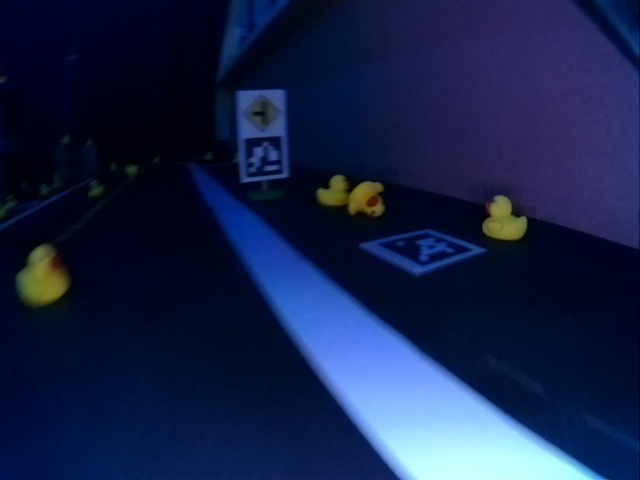Duckie: (21, 246, 70, 305), (483, 195, 526, 239), (348, 182, 385, 216), (321, 175, 348, 205), (89, 179, 102, 196), (38, 184, 48, 197), (127, 163, 137, 173), (61, 134, 70, 144), (203, 153, 212, 162), (110, 162, 118, 168)
Intersection sign: (241, 92, 283, 133)
QR code: (361, 231, 485, 272), (242, 138, 288, 180)
